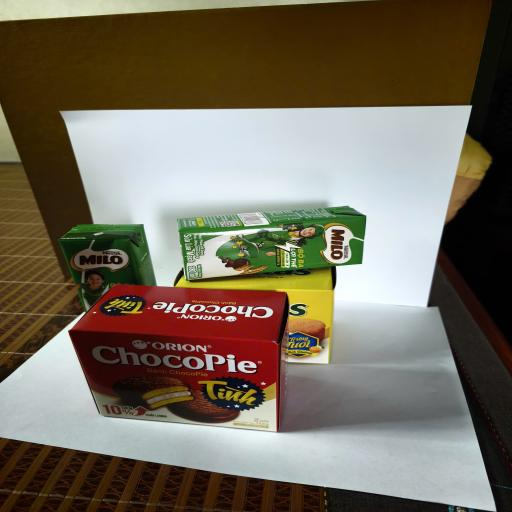chocopie: (68, 284, 289, 432)
custas: (174, 267, 336, 364)
milo: (176, 206, 366, 282), (58, 224, 157, 312)
